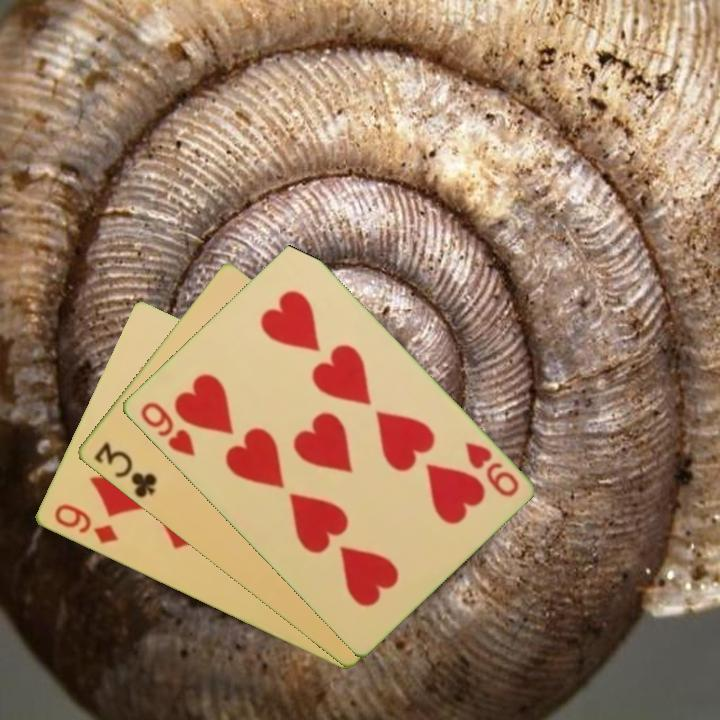3c: (90, 438, 160, 502)
9d: (50, 500, 121, 547)
9h: (136, 398, 198, 460), (460, 438, 521, 500)
